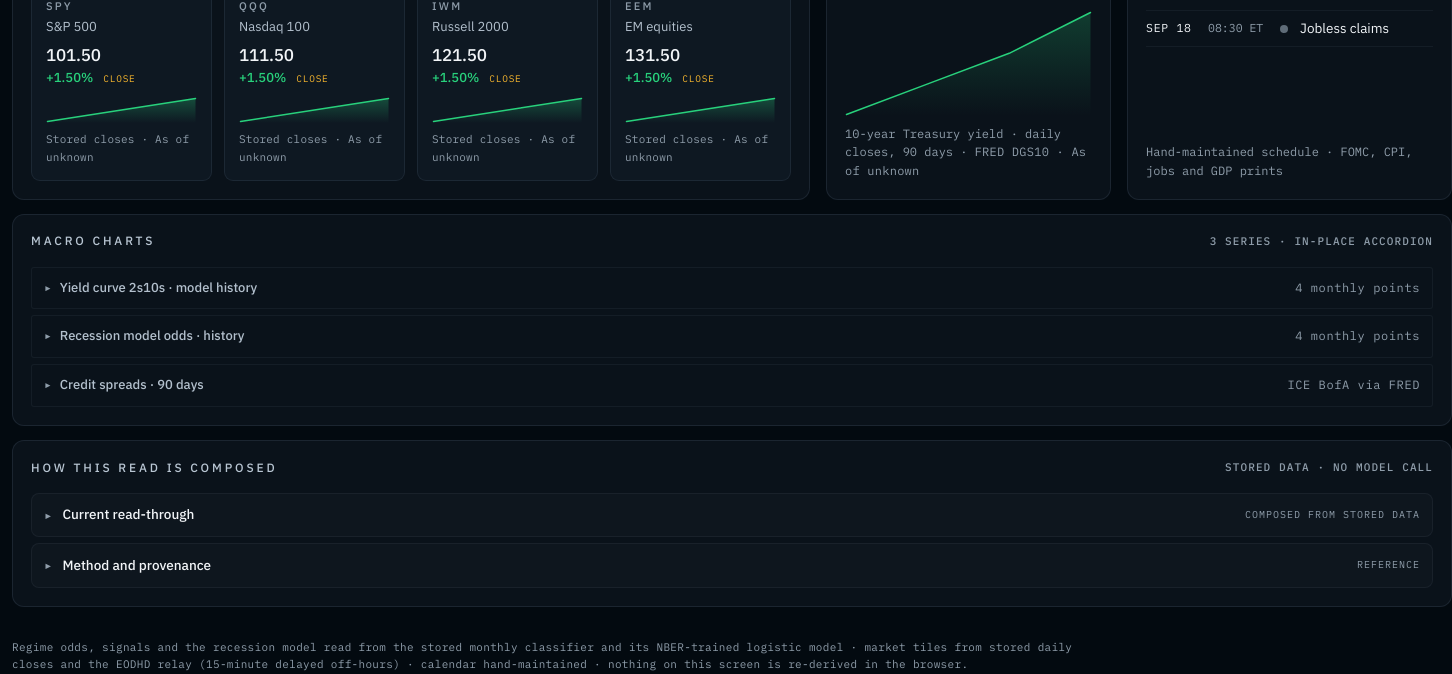
DashboardScreen (checklist 03 E.1) › read-through disclosures are closed on load; opening shows the two paragraphs and the Methodology link
(page scrolled)
Expected: the element with id "read-through" is shown, [12,440,1451,607]
Expected: the heading "How this read is composed" is shown, [31,460,278,476]
# Wait for every input of the read-through before opening it.
Click the button "▸ Current read-through composed from stored data". click: (128, 514)
box: [31,493,1433,537]
(page scrolled)
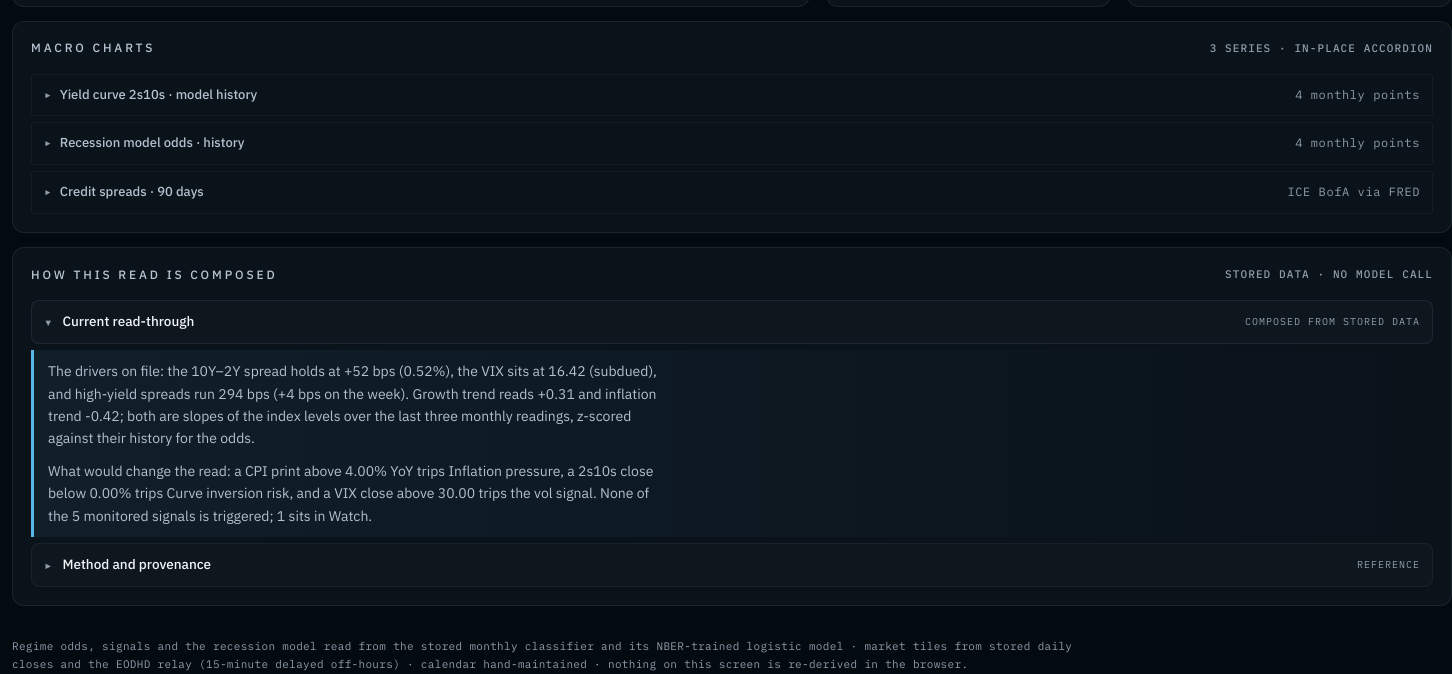
Now the button "▾ Current read-through composed from stored data" is expanded, box [31,300,1433,344]
Now the text "What would change the read: a CPI print above 4.00% YoY trips Inflation pressure, a 2s10s close below 0.00% trips Curve inversion risk, and a VIX close above 30" is shown, box [48,462,653,525]
Click the button "▸ Method and provenance reference". click: (137, 564)
box: [31,543,1433,587]
(page scrolled)
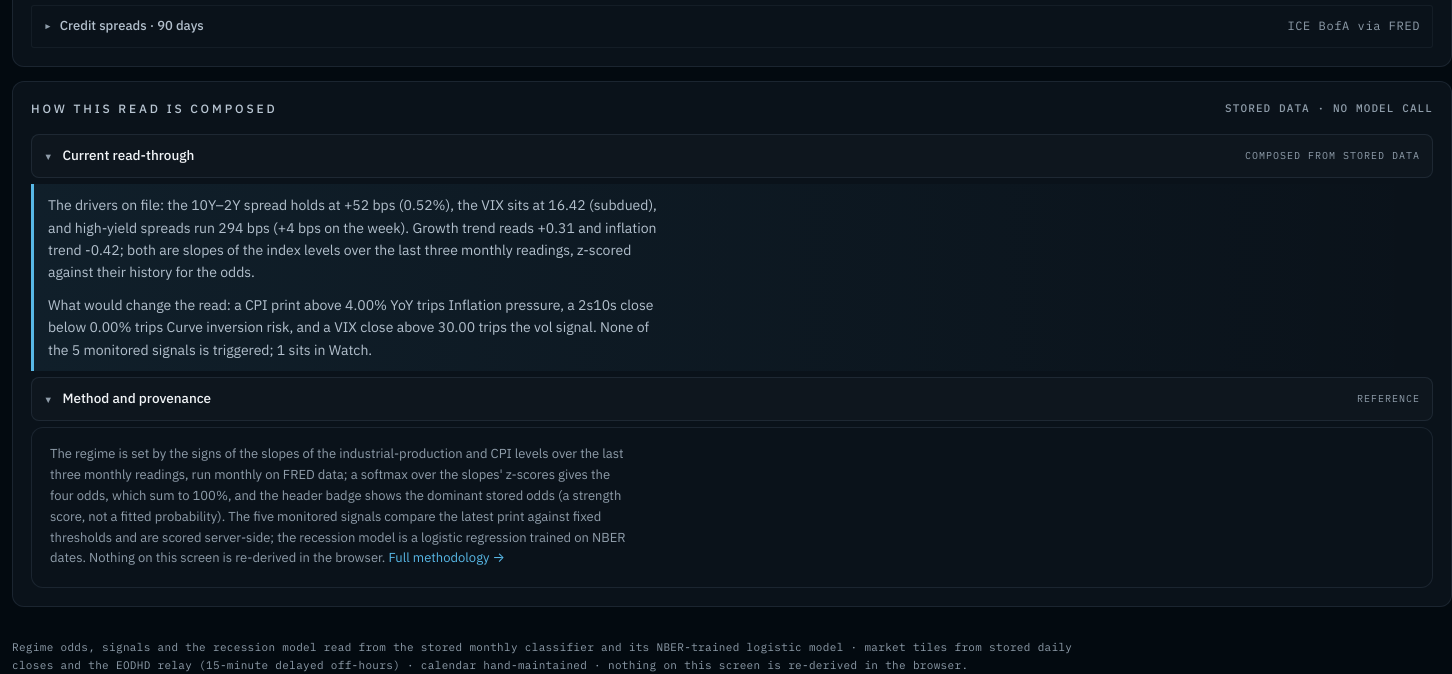
Now the button "▾ Method and provenance reference" is expanded, box [31,377,1433,421]
